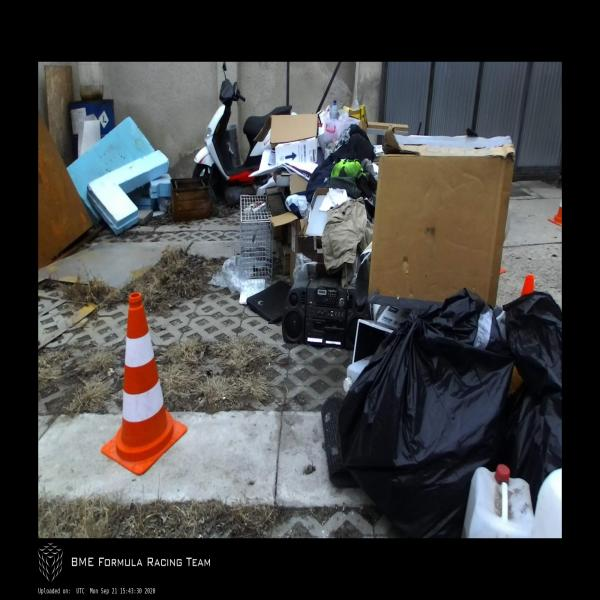large_orange_cone: (101, 292, 188, 475)
